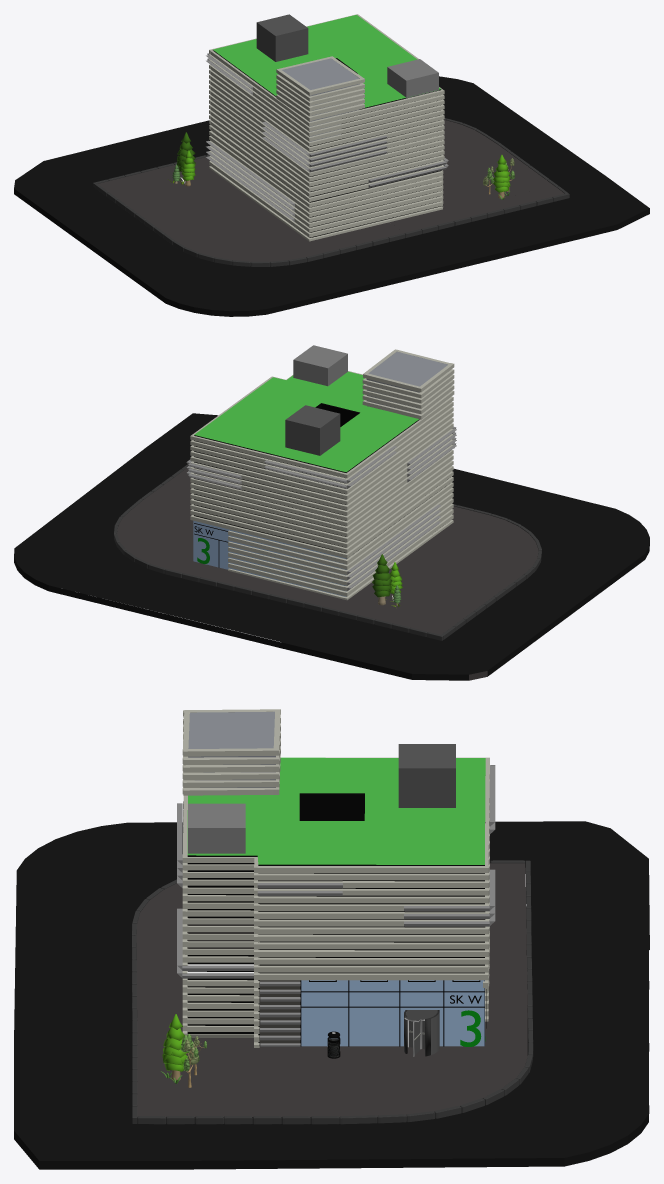
File: FinalGeb3-transformed.glb
3 renders of one model, top to bottom at view 1: azimuth 30°, elevation 25°; view 2: azimuth 150°, elevation 25°; view 3: azimuth 270°, elevation 25°, orthographic. The views are drawn at different scales.
Visible parts, largest first — view 1: Street FLF.003, Street FLF.008, Street FLF.002, Street FLF.135, Street FLF.006, Street FLF.004, Street FLF.007, Street FLF.048, Street FLF.047, Street FLF.046, Street FLF.022; view 2: Street FLF.003, Street FLF.008, Street FLF.002, Street FLF.135, Street FLF.006, Street FLF.004, Street FLF.007, Street FLF.040, Street FLF.048, Street FLF.047, Street FLF.046, Street FLF.027; view 3: Street FLF.003, Street FLF.008, Street FLF.002, Street FLF.135, Street FLF.007, Street FLF.017, Street FLF.006, Street FLF.004, Street FLF.048, Street FLF.047, Street FLF.046, Street FLF.049 (+2 smaller).
Part boxes in pixels (box(x1,y1,x2,y2)): Street FLF.003: box(14, 76, 649, 316); Street FLF.008: box(209, 14, 444, 241); Street FLF.002: box(98, 119, 564, 265); Street FLF.135: box(213, 15, 440, 107); Street FLF.006: box(206, 53, 448, 221); Street FLF.004: box(93, 118, 569, 266); Street FLF.007: box(213, 50, 441, 237); Street FLF.048: box(256, 14, 308, 61); Street FLF.047: box(282, 58, 359, 141); Street FLF.046: box(387, 59, 438, 98); Street FLF.022: box(181, 150, 510, 198); Street FLF.003: box(14, 413, 649, 680); Street FLF.008: box(190, 349, 454, 600); Street FLF.002: box(117, 468, 538, 680); Street FLF.135: box(194, 371, 418, 472); Street FLF.006: box(186, 427, 456, 590); Street FLF.004: box(114, 464, 541, 640); Street FLF.007: box(194, 403, 447, 567); Street FLF.040: box(193, 520, 346, 596); Street FLF.048: box(285, 405, 340, 455); Street FLF.047: box(366, 351, 447, 419); Street FLF.046: box(293, 345, 347, 386); Street FLF.027: box(372, 554, 392, 605); Street FLF.003: box(14, 821, 649, 1169); Street FLF.008: box(182, 709, 489, 1047); Street FLF.002: box(136, 863, 527, 1116); Street FLF.135: box(187, 757, 485, 864); Street FLF.007: box(187, 793, 486, 1058); Street FLF.017: box(301, 980, 484, 1046); Street FLF.006: box(177, 765, 495, 1046); Street FLF.004: box(132, 860, 533, 1124); Street FLF.048: box(398, 744, 455, 807); Street FLF.047: box(188, 711, 275, 787); Street FLF.046: box(188, 803, 245, 853); Street FLF.049: box(187, 880, 485, 1046).
Size of the model in its own units: 27.93 by 9.26 by 22.1.
